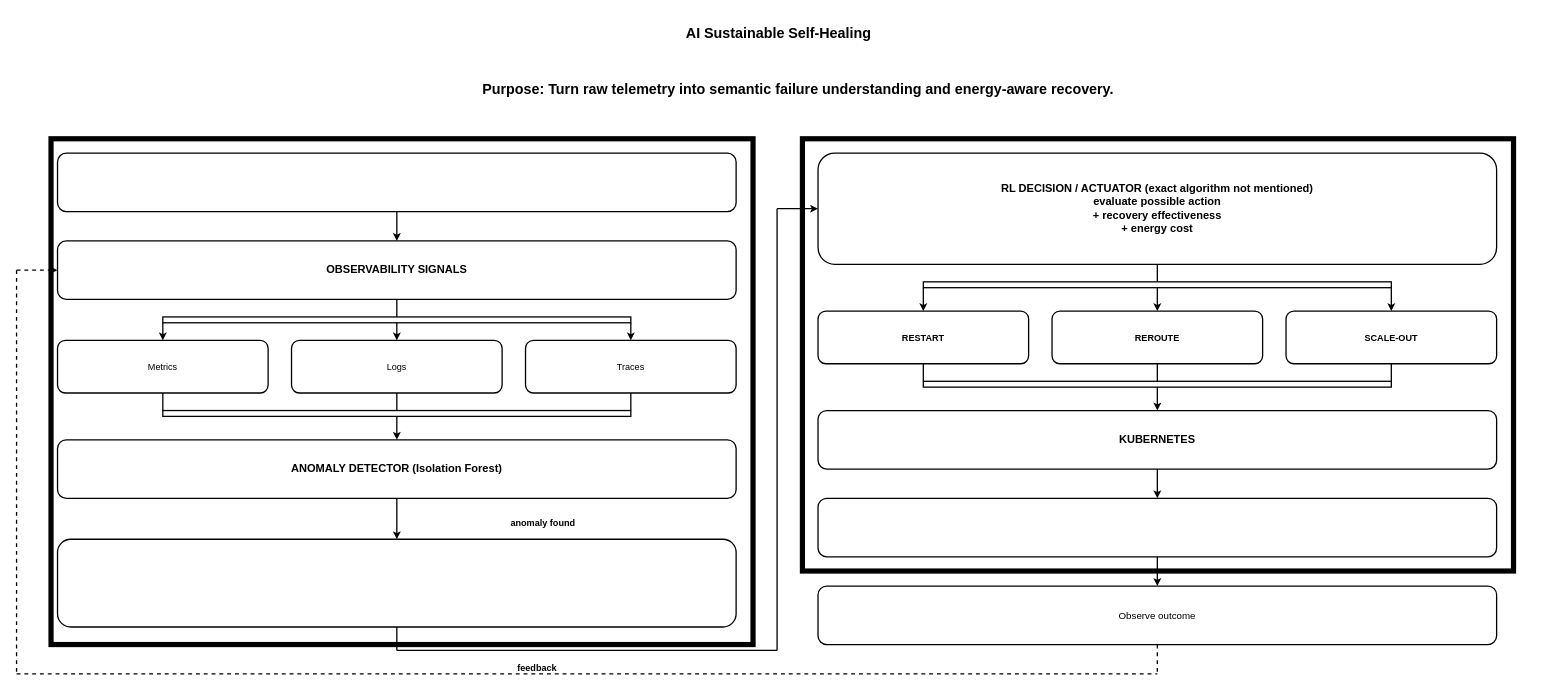
Image size: 1554x695. Some labels were removed from this diagram. Here are the shapes that lost their labels. From the top down, the box of each, then its label:
(57, 152, 736, 212): CLOUD-NATIVE APPLICATION
(817, 497, 1497, 557): Apply remediation
(57, 538, 736, 627): SEMANTIC DIAGNOSIS Convert observations into higher-level "failure intent"
